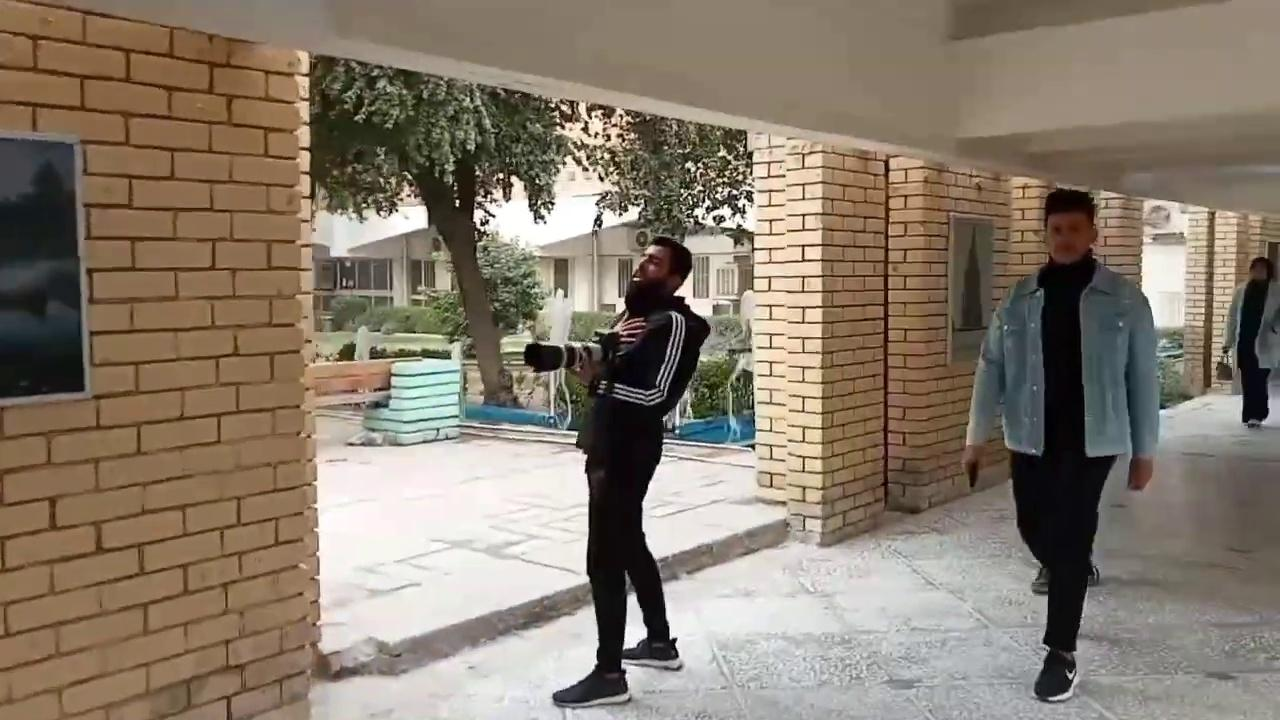car: (1155, 336, 1183, 360)
fountain: (523, 286, 576, 429), (726, 279, 756, 445), (533, 286, 574, 346)
person: (961, 187, 1161, 702), (550, 235, 710, 707), (1220, 256, 1279, 429)
tree: (308, 55, 573, 407), (558, 101, 754, 420), (570, 103, 754, 248), (428, 232, 547, 405)
